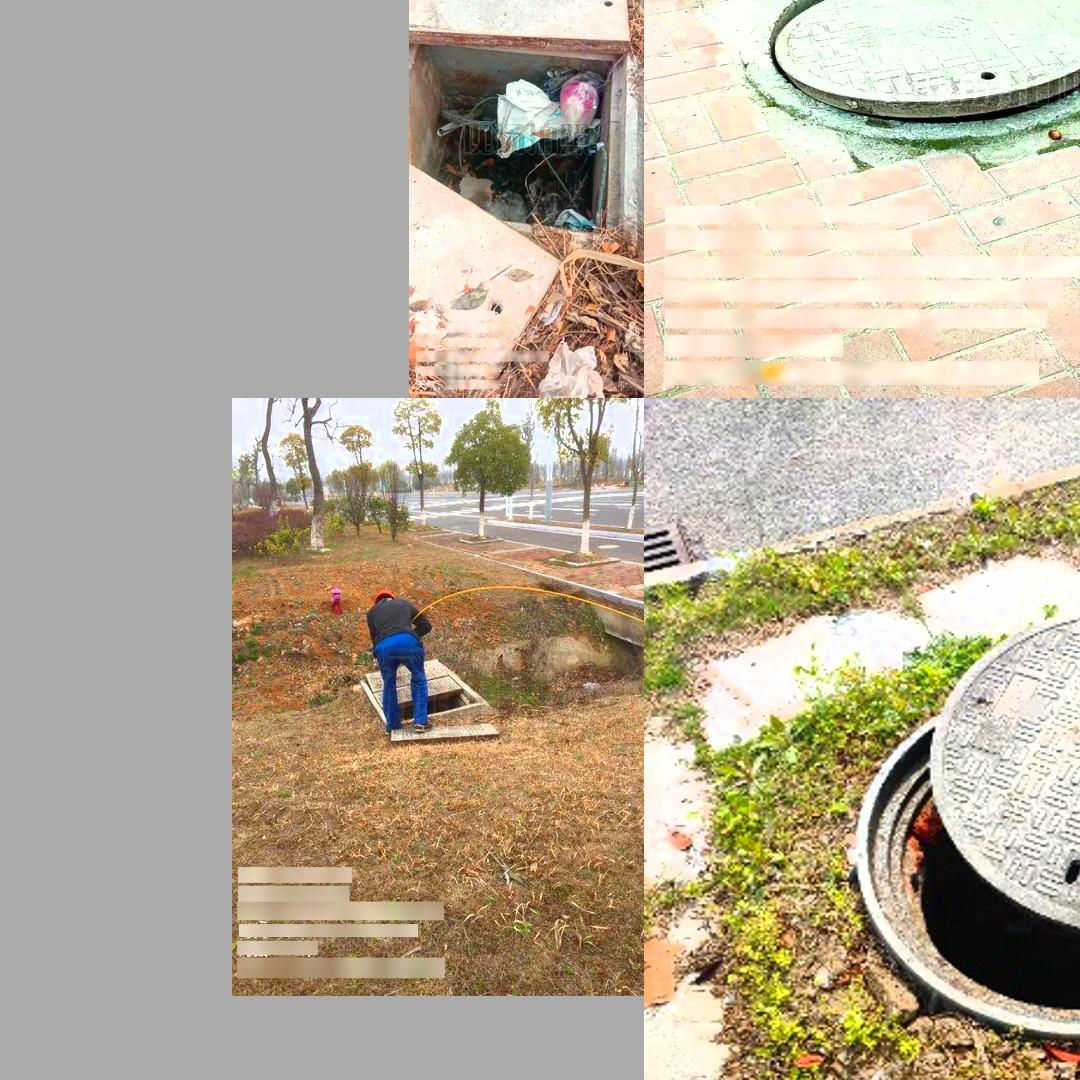uncovered: (858, 607, 1080, 1036), (409, 0, 644, 240), (745, 0, 1080, 141), (359, 654, 498, 743)
